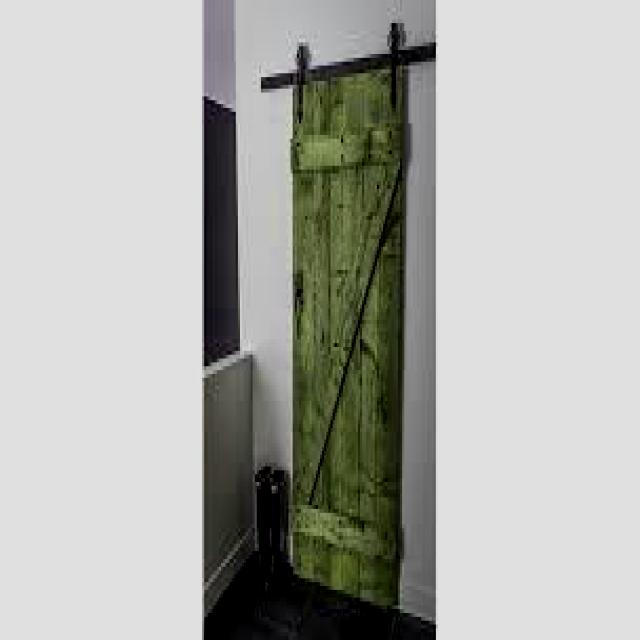door: (277, 17, 420, 637)
